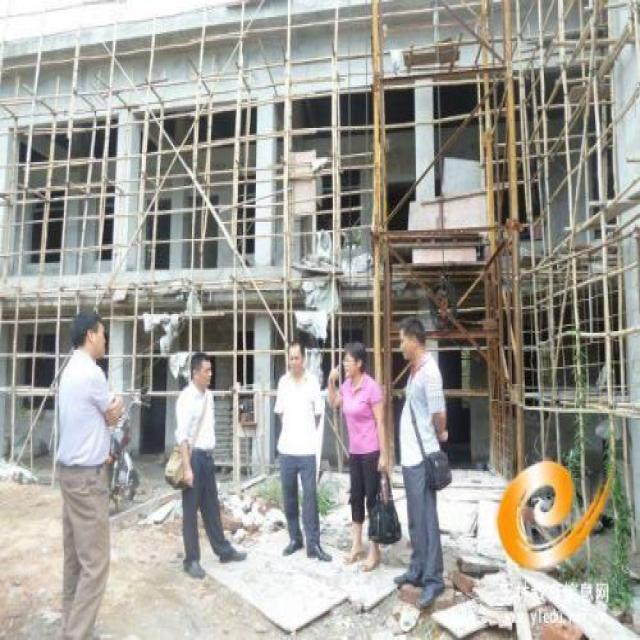no-helmet: (67, 306, 110, 365), (397, 312, 432, 372), (341, 336, 366, 384), (191, 350, 216, 391), (283, 340, 306, 376)
